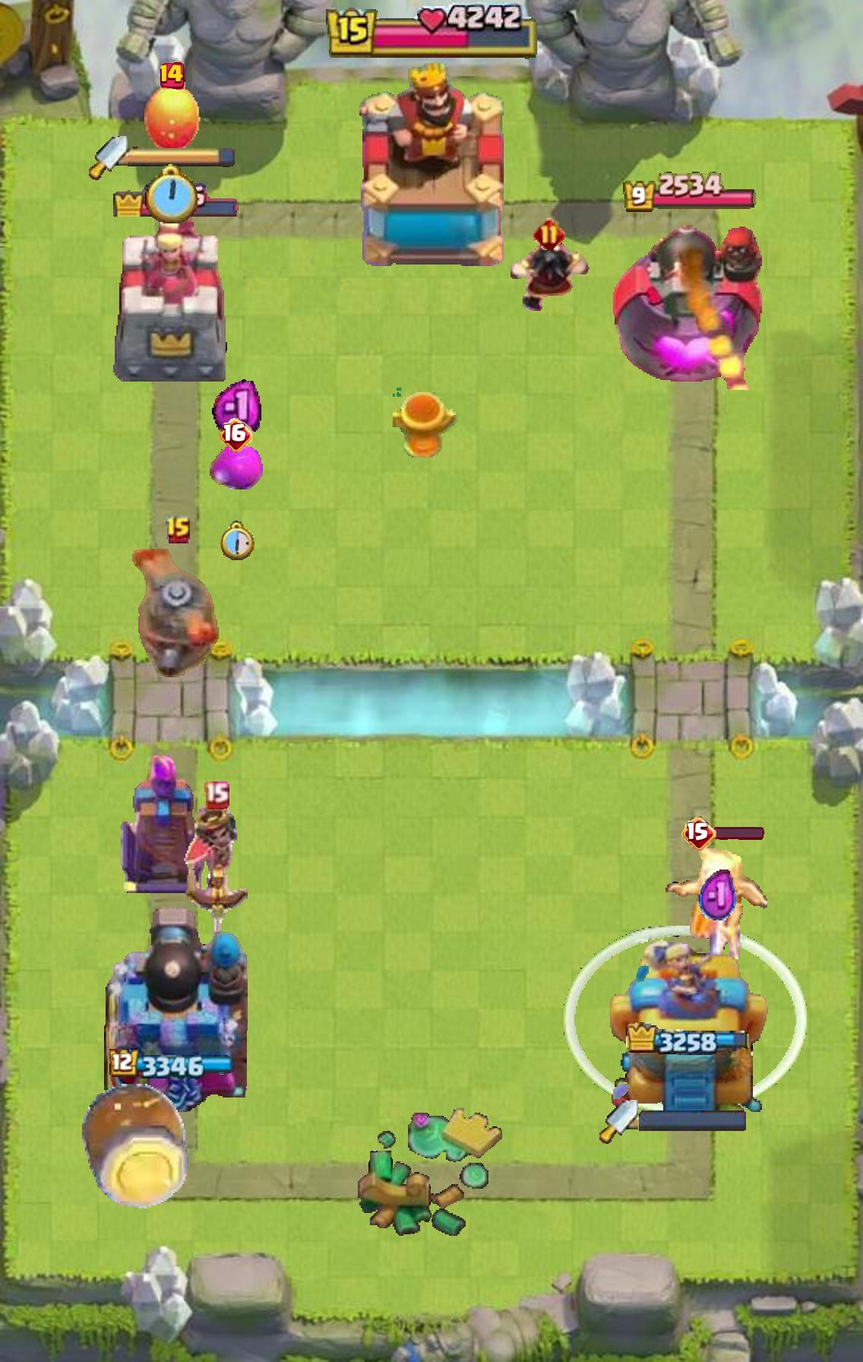bar: (713, 827, 764, 839)
bar-level: (681, 816, 716, 851), (219, 418, 254, 452), (533, 218, 565, 250), (165, 515, 192, 546), (160, 61, 185, 90), (204, 781, 229, 809)
